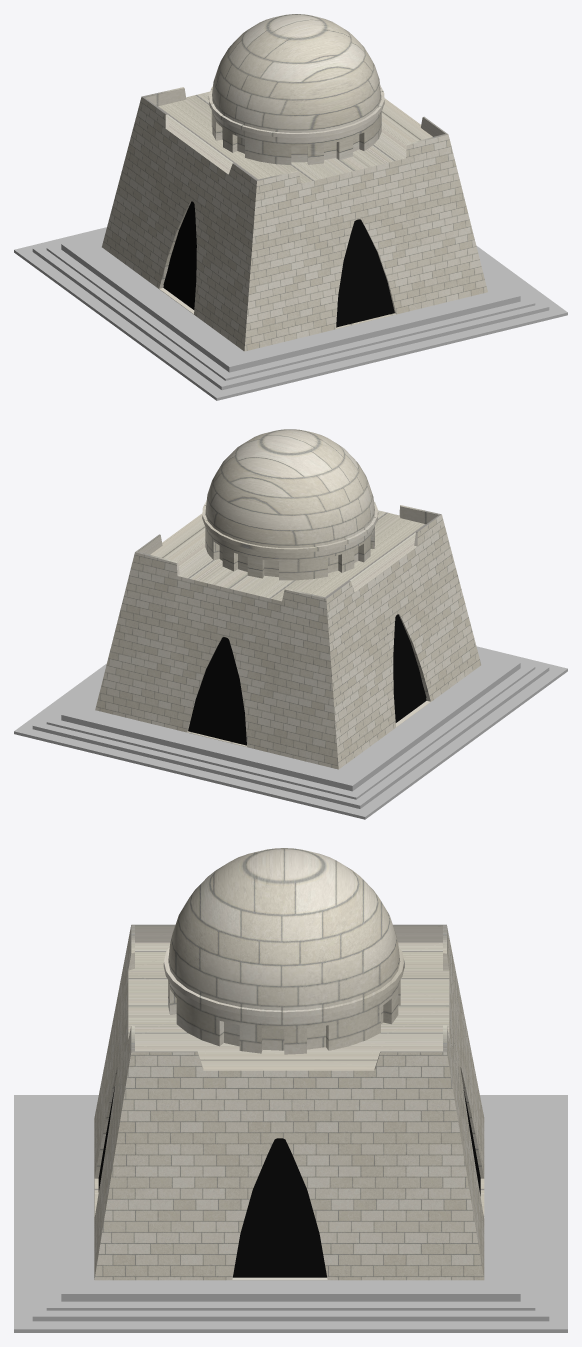
The model's file is mazar.fbx.
3 views of the same model, one above another, from view 1: azimuth 30°, elevation 25°; view 2: azimuth 150°, elevation 25°; view 3: azimuth 270°, elevation 25° (orthographic). The views are drawn at different scales.
Parts seen in each view (by area): view 1: Body, Ground, Dome, Black Doors; view 2: Body, Ground, Dome, Black Doors; view 3: Body, Ground, Dome, Black Doors.
Boxes of the visible parts, x1=… form: Body: x1=102, y1=87, x2=487, y2=351; Ground: x1=14, y1=227, x2=567, y2=400; Dome: x1=208, y1=14, x2=384, y2=165; Black Doors: x1=163, y1=201, x2=394, y2=327; Body: x1=95, y1=505, x2=481, y2=769; Ground: x1=14, y1=646, x2=567, y2=819; Dome: x1=202, y1=429, x2=378, y2=580; Black Doors: x1=188, y1=614, x2=426, y2=745; Body: x1=94, y1=924, x2=484, y2=1280; Ground: x1=14, y1=1095, x2=567, y2=1332; Dome: x1=163, y1=848, x2=404, y2=1054; Black Doors: x1=98, y1=1087, x2=480, y2=1277.
Size of what is drawn, in the model's own units: 7.66 by 7.66 by 5.48.
4 materials, 2 textured.
